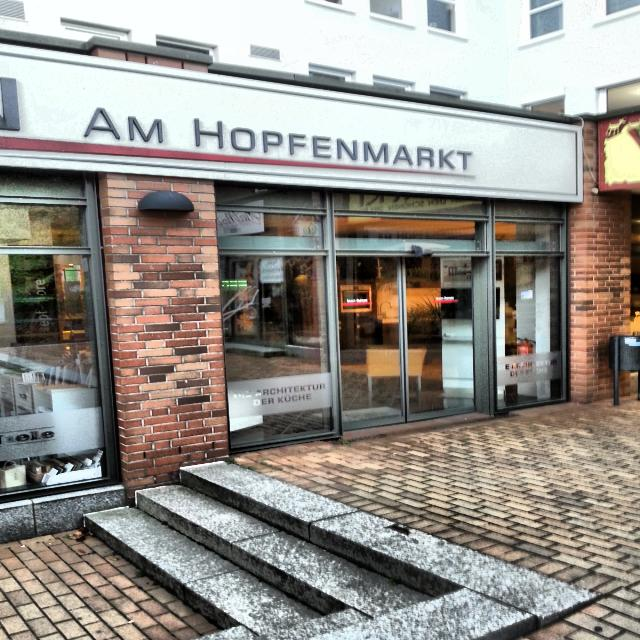escada: (50, 457, 461, 627)
